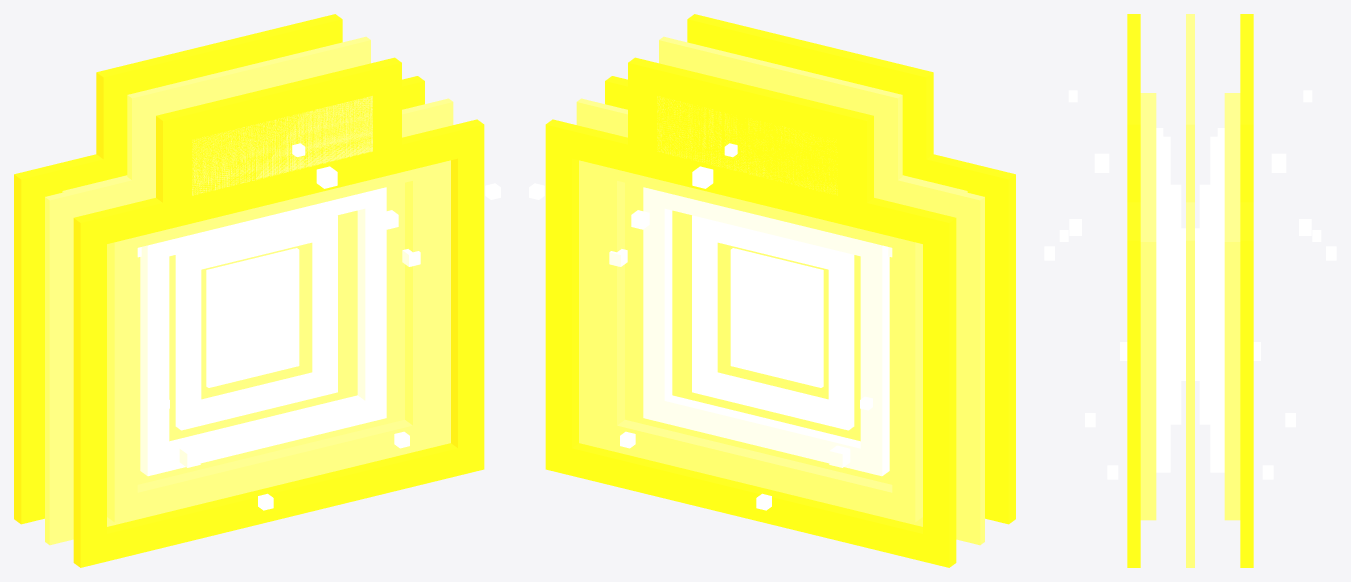
Rendered from tt-portal-yellow.glb.
3 views of the same model, side by side, from view 1: azimuth 30°, elevation 25°; view 2: azimuth 150°, elevation 25°; view 3: azimuth 270°, elevation 25° (orthographic). The views are drawn at different scales.
Visible parts, largest first — view 1: box-prop; view 2: box-prop; view 3: box-prop.
Part boxes in pixels (x1,y1,x2,y2): box-prop: [14, 14, 500, 567]; box-prop: [529, 14, 1015, 567]; box-prop: [1044, 14, 1336, 567].
Bounding box in the file's own units: 4.9 × 4.95 × 3.24.
